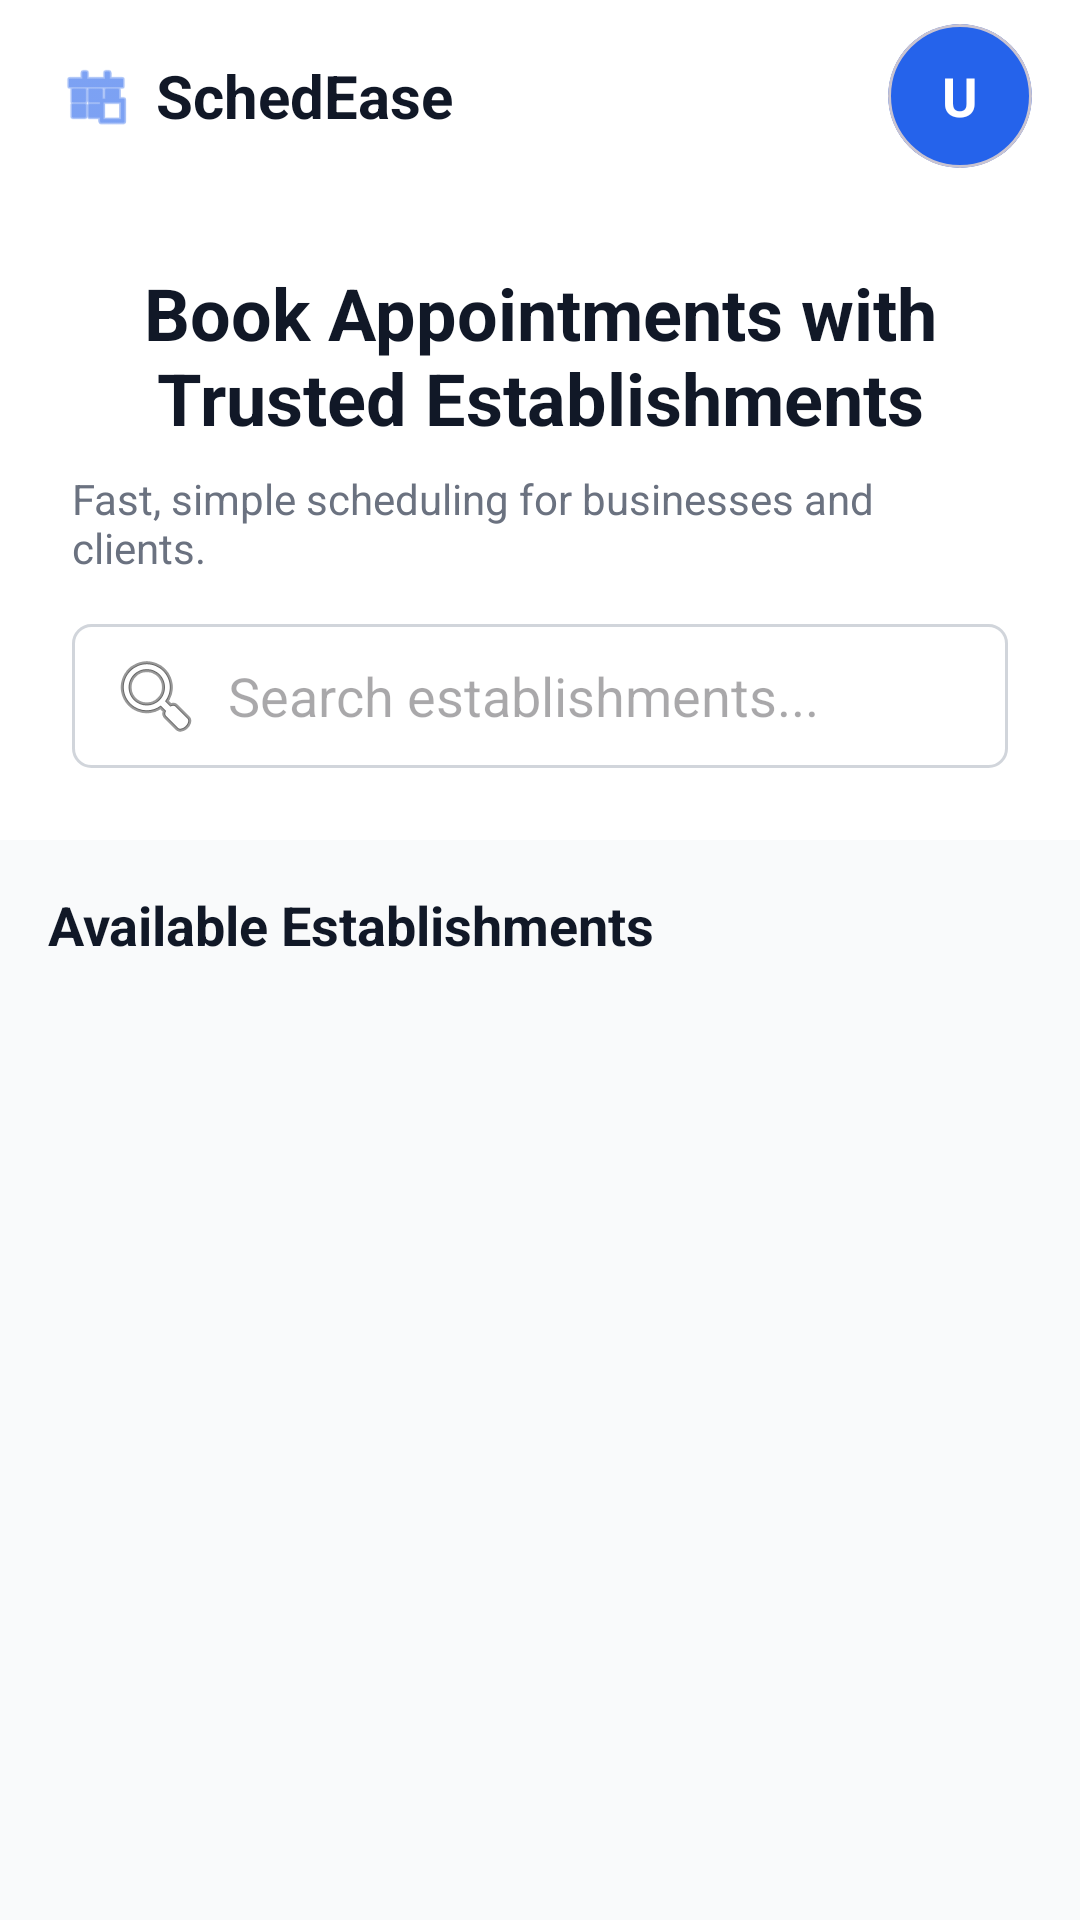

Named icons in this screenshot (1080w x 1920h) and their bounding boxes, (x1, y1, x2, y2):
today: (67, 70, 126, 125)
